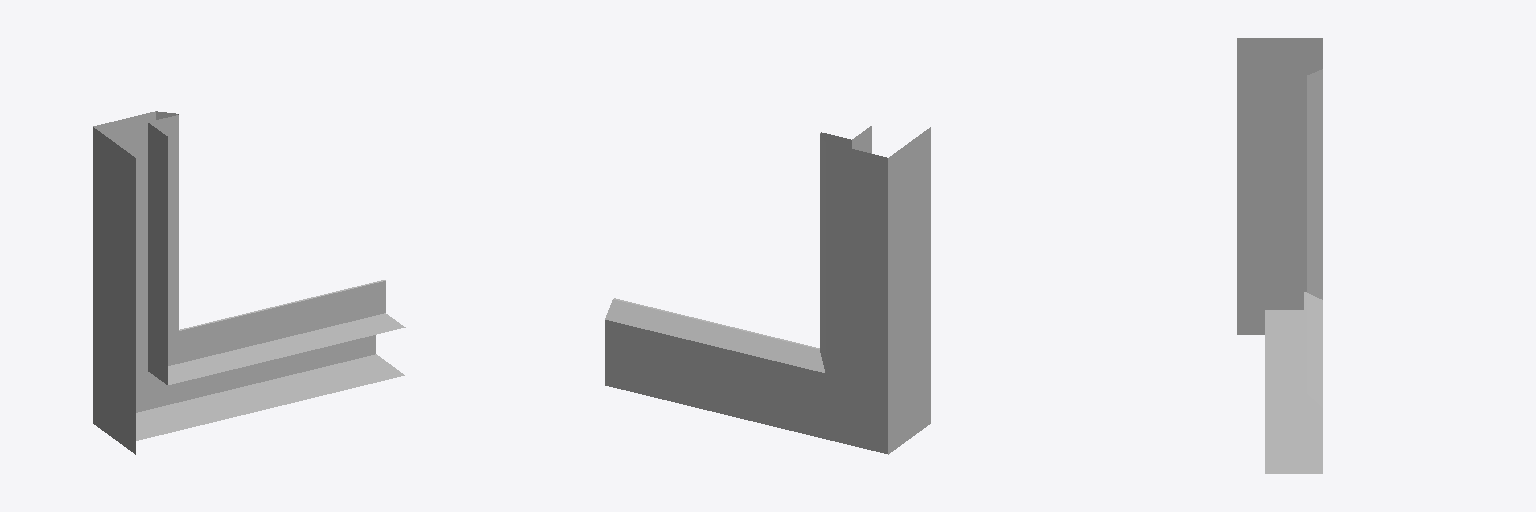
File: original-107.obj
The picture shows the model from 3 angles: view 1: azimuth 30°, elevation 25°; view 2: azimuth 150°, elevation 25°; view 3: azimuth 270°, elevation 25°; orthographic projection.
Visible parts, largest first — view 1: #ID676; view 2: #ID676; view 3: #ID676.
Part boxes in pixels (bbox=[...]): #ID676: bbox=[93, 111, 405, 454]; #ID676: bbox=[605, 126, 930, 454]; #ID676: bbox=[1237, 38, 1322, 473].
Bounding box in the file's own units: 0.1274 × 0.1274 × 0.0332.